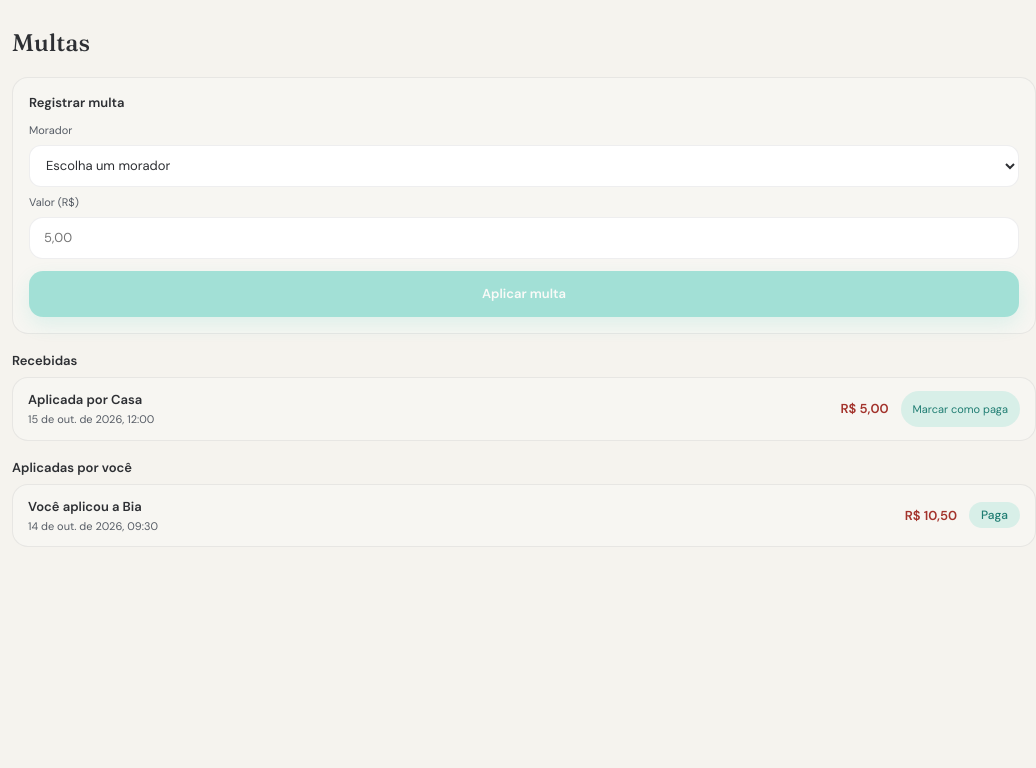
Test: FinesPanel › shows the backend error message when applying a fine fails
Select "Bia" in the dropdown labelled "Morador": (524, 166) [29, 145, 1019, 187]
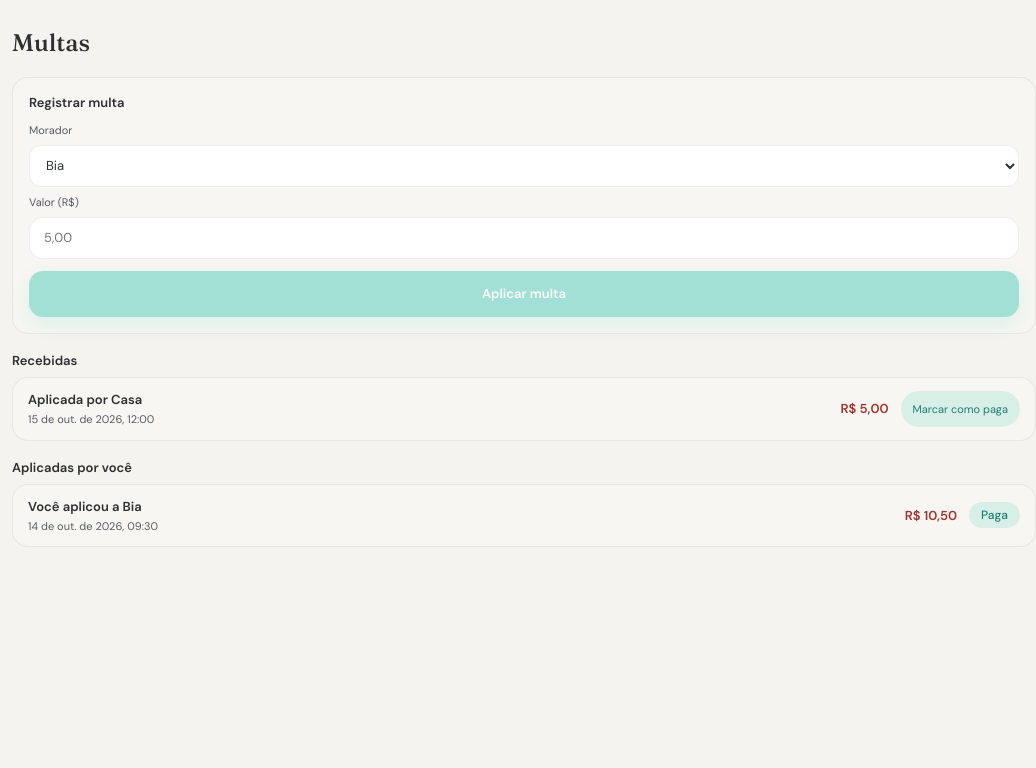
In the field labelled "Valor (R$)": (524, 238) [29, 217, 1019, 259], type "5"
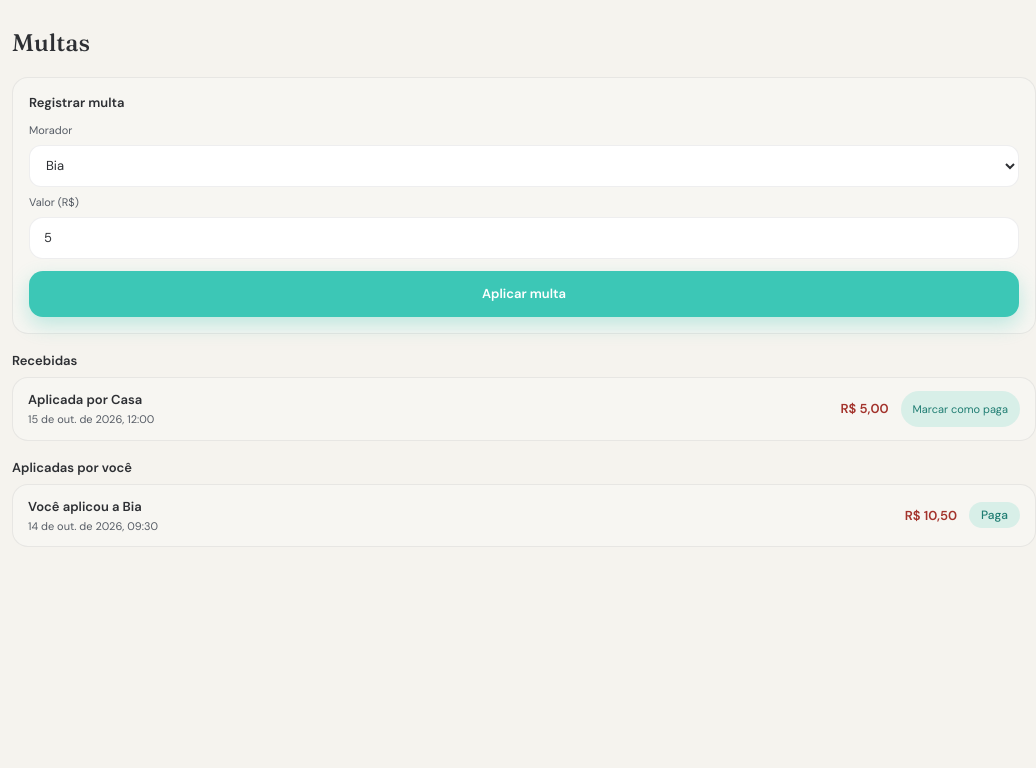
Click the button "Aplicar multa": (524, 294) [29, 271, 1019, 317]
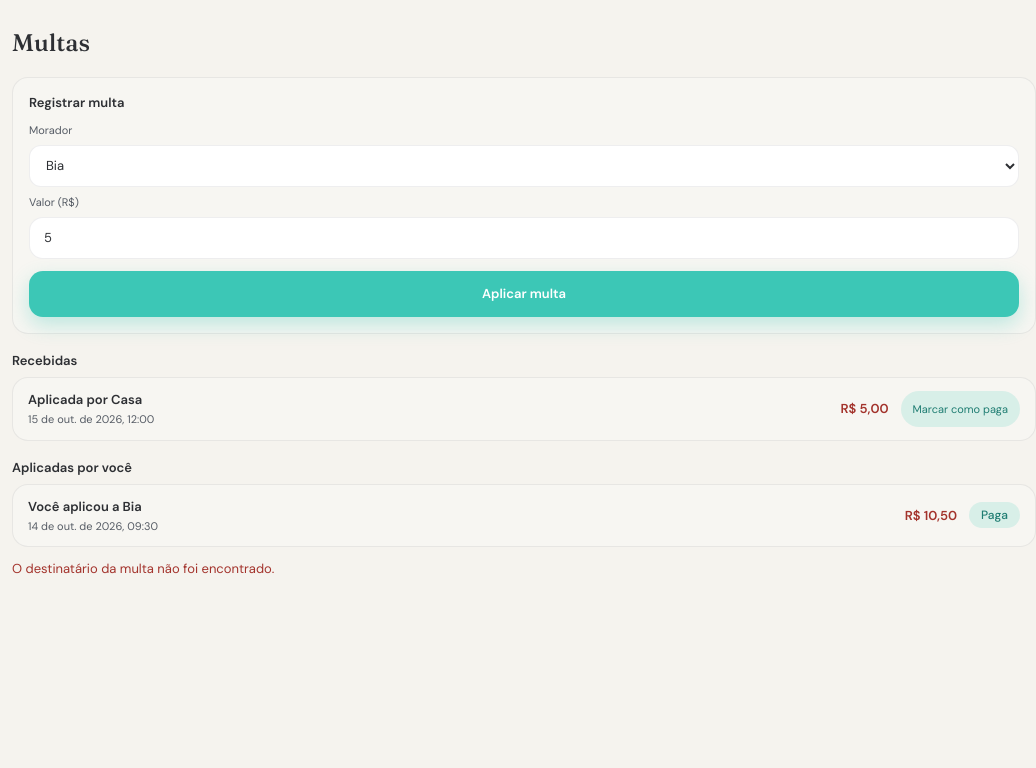
Expected: the text "O destinatário da multa não foi encontrado." is shown, [12, 560, 274, 577]
